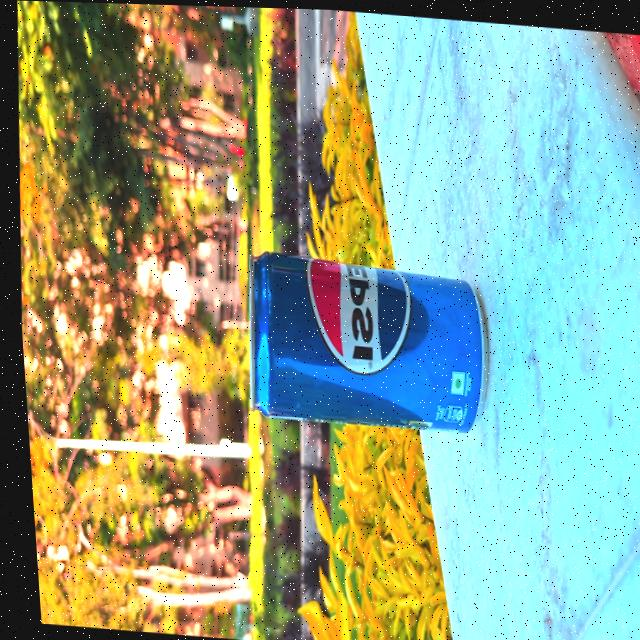Pepsi: (236, 249, 493, 434)
